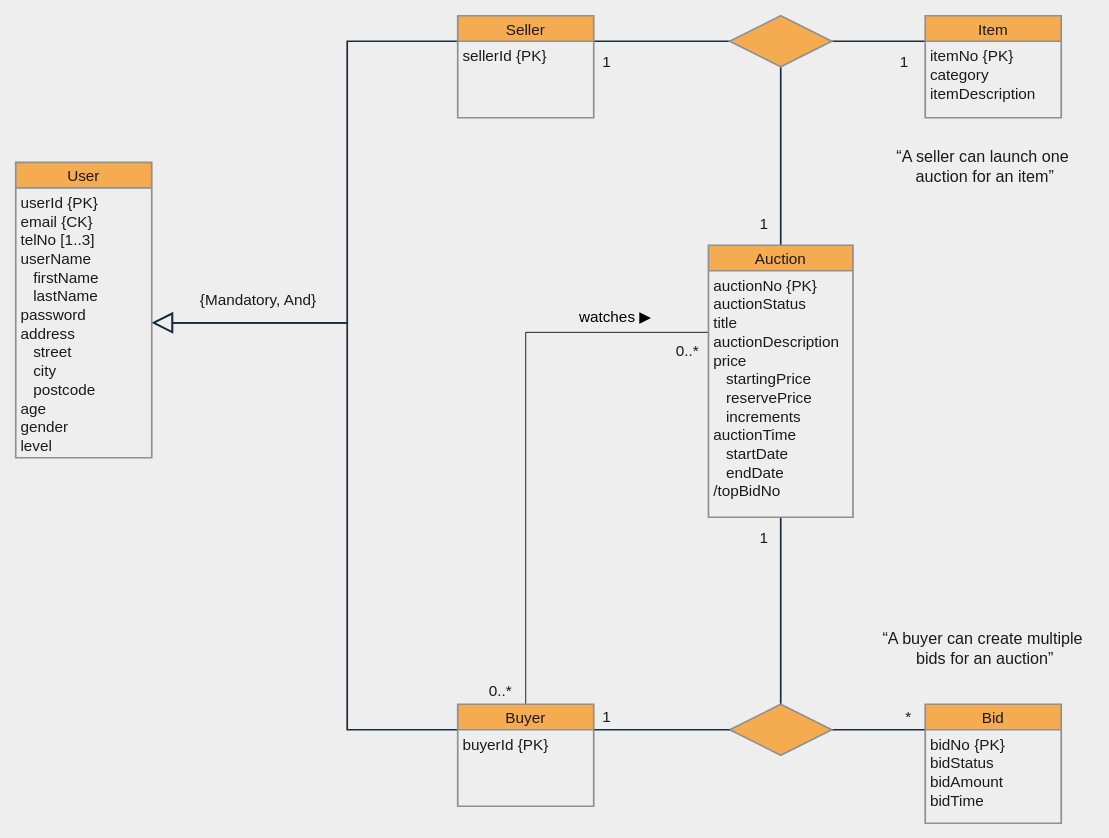
This 1109x838 diagram has some shape labels left out. Here are the shapes that lost their labels. From the top down, the centre of each, then its label:
At (x=780, y=40): "Launchs".
At (x=780, y=729): "Create".
